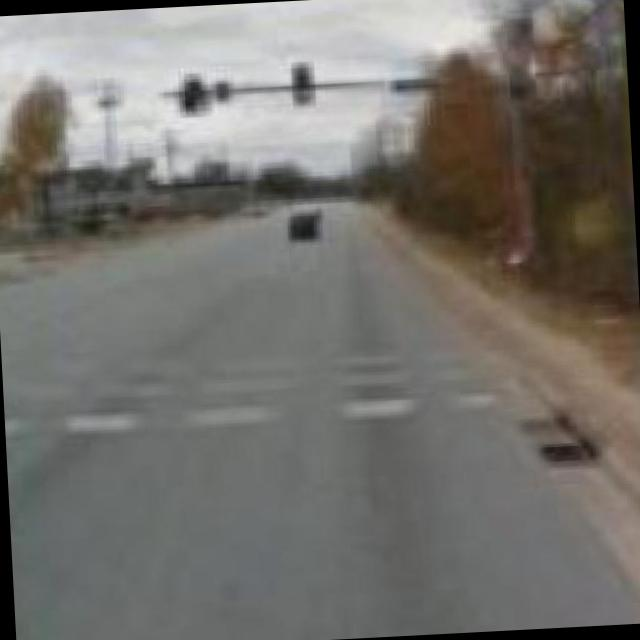zebra: (1, 343, 524, 441)
